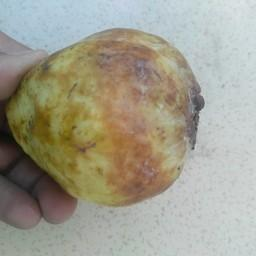Bad_guava: (6, 28, 202, 204)
